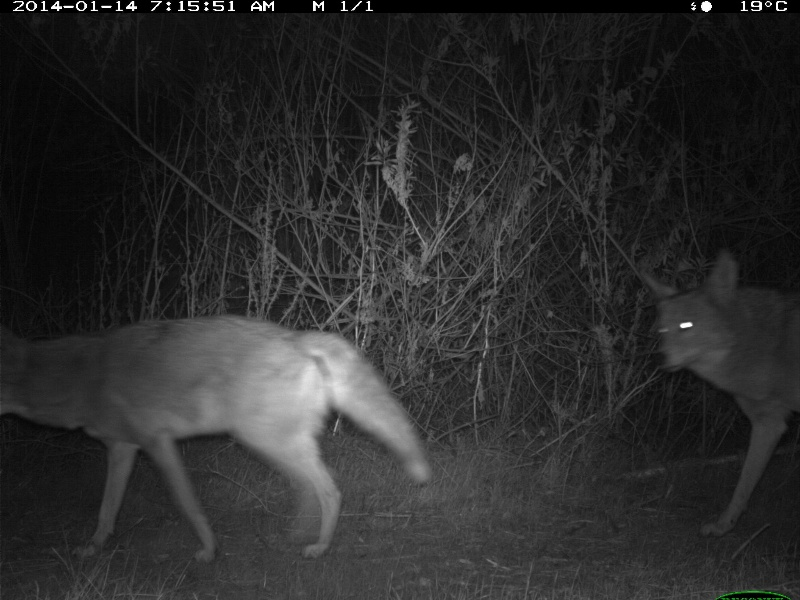coyote: (1, 312, 428, 561), (633, 247, 800, 539)
